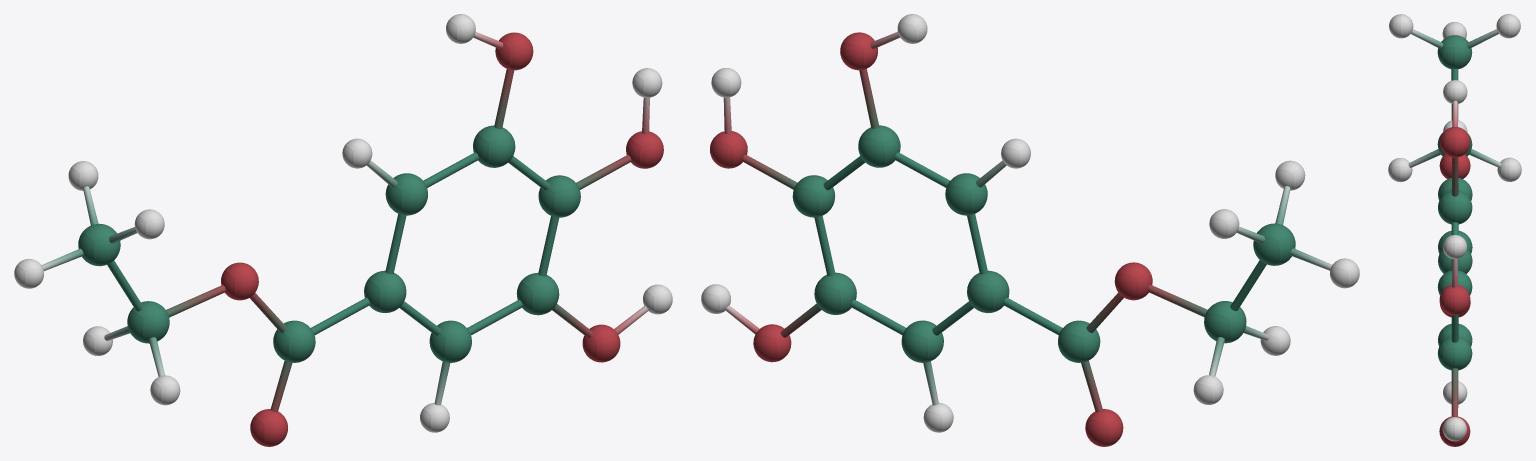
Rendered from Ethyl Gallate.fbx.
3 views of the same model, side by side, from view 1: azimuth 30°, elevation 25°; view 2: azimuth 150°, elevation 25°; view 3: azimuth 270°, elevation 25° (orthographic). The views are drawn at different scales.
Visible parts, largest first — view 1: curMeshHyperballExportedMesh; view 2: curMeshHyperballExportedMesh; view 3: curMeshHyperballExportedMesh.
Part boxes in pixels (x1,y1,x2,y2): curMeshHyperballExportedMesh: [14, 14, 672, 446]; curMeshHyperballExportedMesh: [701, 14, 1359, 446]; curMeshHyperballExportedMesh: [1388, 14, 1521, 446].
Bounding box in the file's own units: 10.06 × 6.02 × 2.19.
